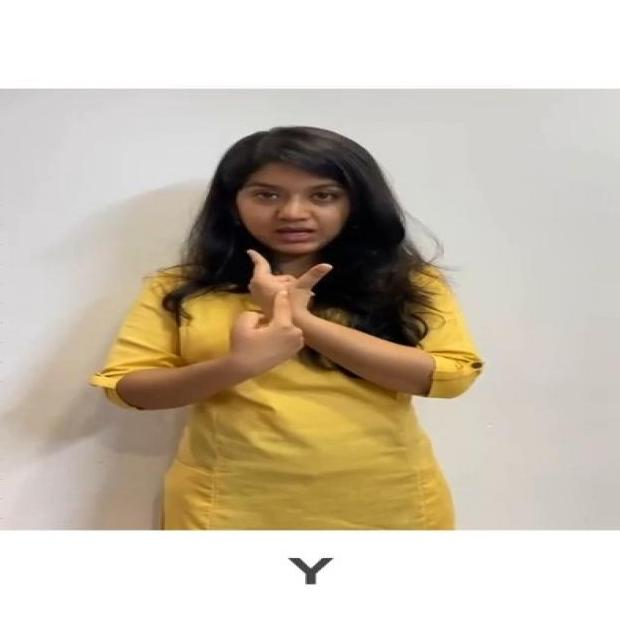X: (219, 244, 338, 379)
